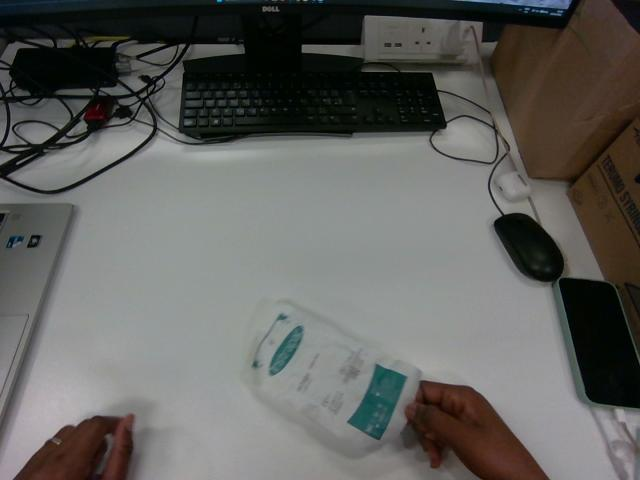gallipot: (250, 301, 420, 451)
